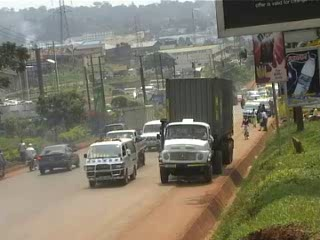Car: (36, 143, 82, 176), (137, 117, 168, 151)
Motorcycle: (22, 144, 38, 172)
